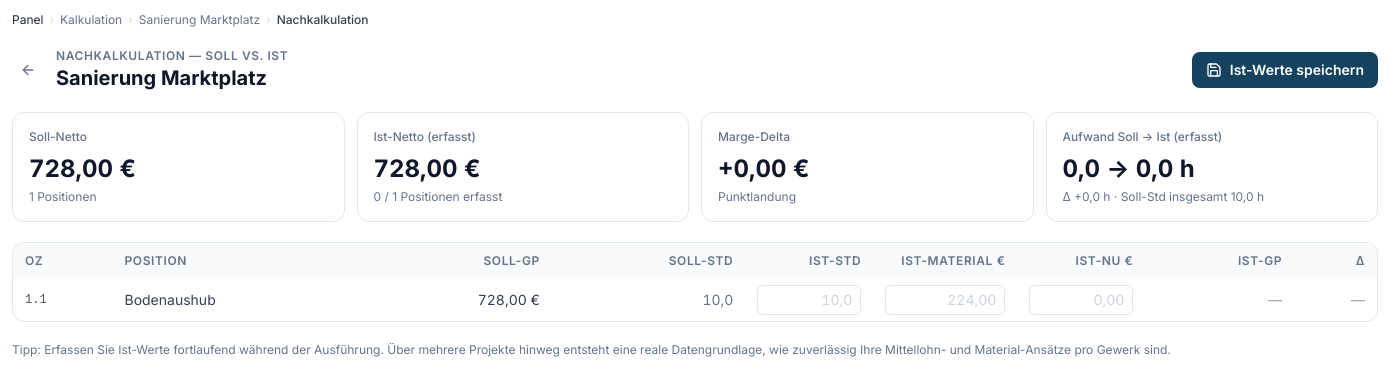
Test case: ProjectActuals — NumInput edits › entering hours in a row increments filledCount and updates Ist-GP
The image size is (1390, 374).
Expected: the text "0 / 1 Positionen erfasst" is shown, [374,189,502,204]
Type "12" into the field with placeholder "10,0".
click(809, 300); type("12")  # box [757,285,861,315]
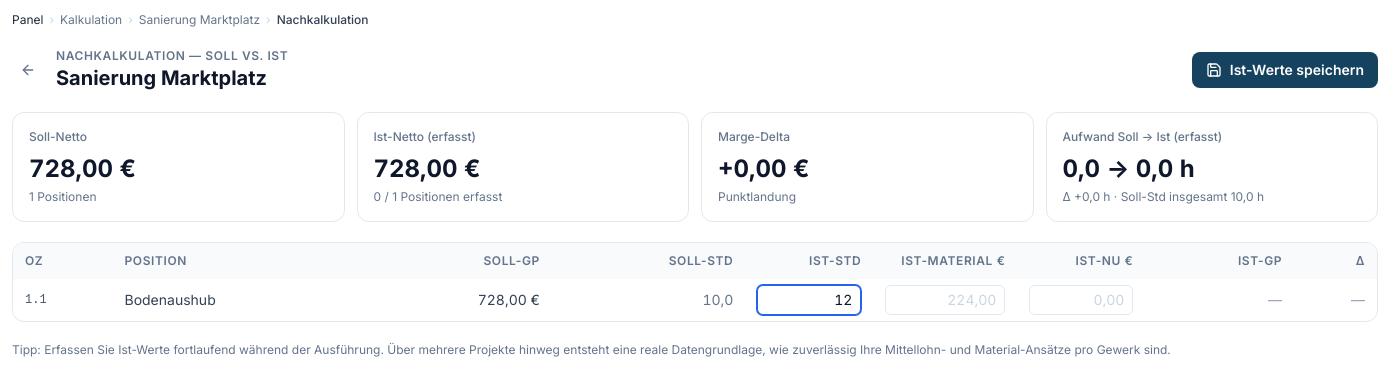
Leave the 1st field, box [757,285,861,315]
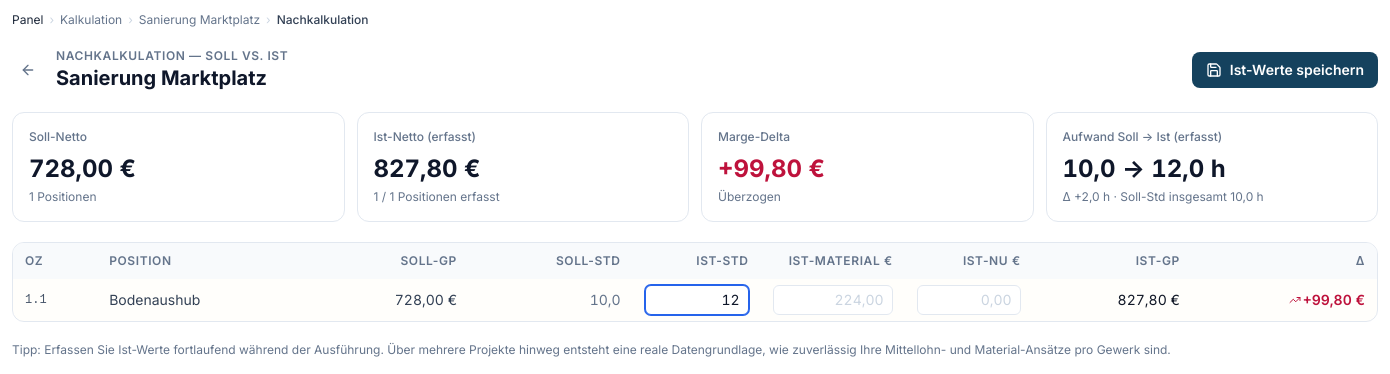
Result: the text "1 / 1 Positionen erfasst" is shown at [374,189,500,204]
Result: the row "1.1 Bodenaushub 728,00 € 10,0 827,80 € +99,80 €" is shown at [13,279,1377,321]
